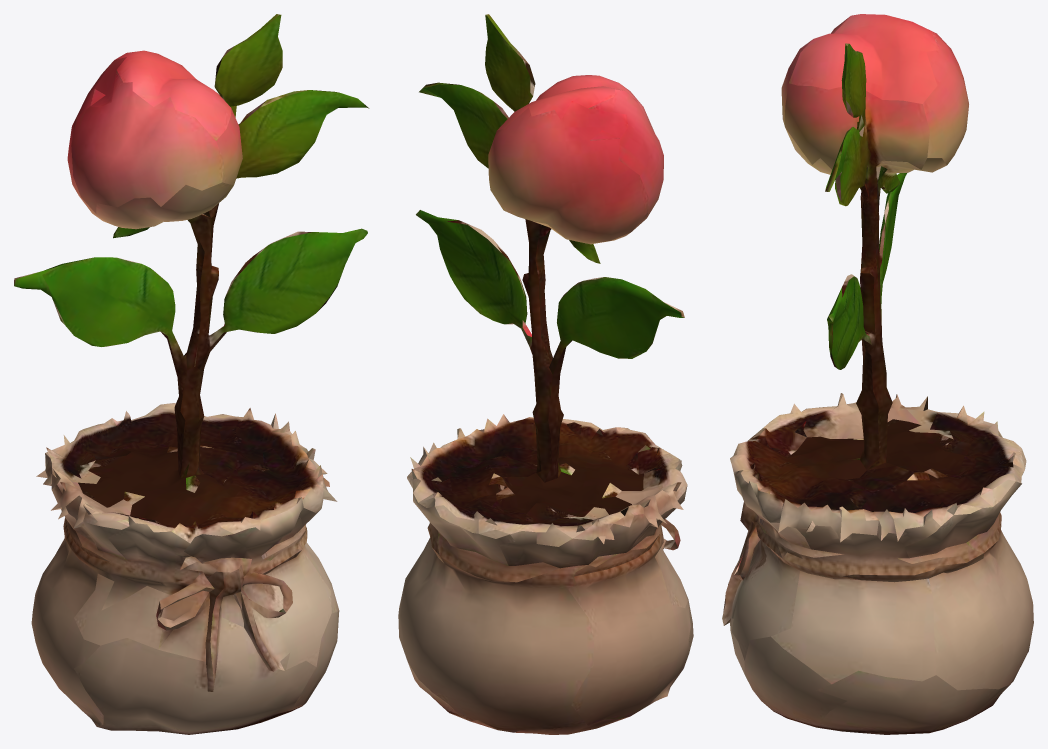
The model's file is sapling_peach.glb.
3 renders of one model, left to right at view 1: azimuth 30°, elevation 25°; view 2: azimuth 150°, elevation 25°; view 3: azimuth 270°, elevation 25°, orthographic. The views are drawn at different scales.
Visible parts, largest first — view 1: sapling_peach; view 2: sapling_peach; view 3: sapling_peach.
Boxes of the visible parts, x1,y1,x2,y2 form: sapling_peach: (14, 14, 369, 734); sapling_peach: (398, 14, 693, 734); sapling_peach: (722, 14, 1033, 734).
Size of the model in its own units: 0.4923 by 1 by 0.4122.
1 material, 1 textured.
